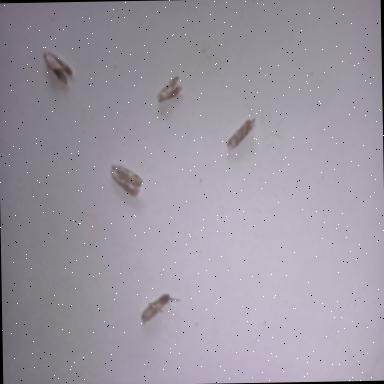pbw: (142, 292, 182, 326), (110, 163, 146, 197), (42, 48, 74, 83), (228, 118, 256, 148), (156, 76, 184, 102)
